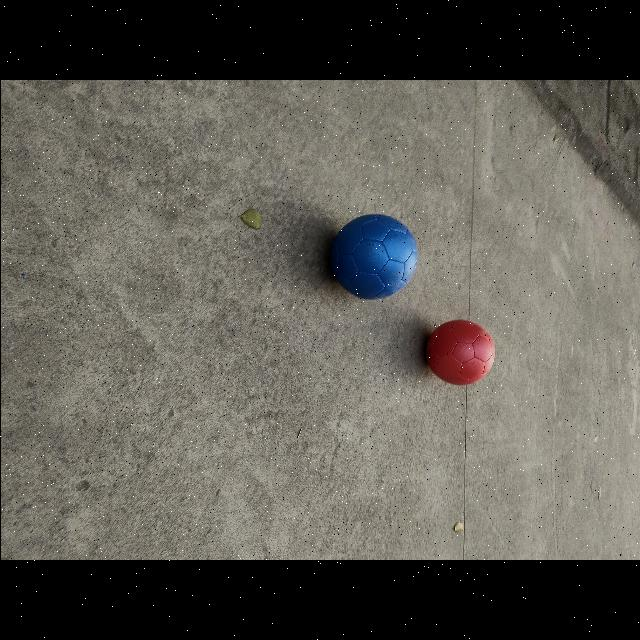B: (327, 214, 417, 300)
R: (422, 319, 493, 385)
